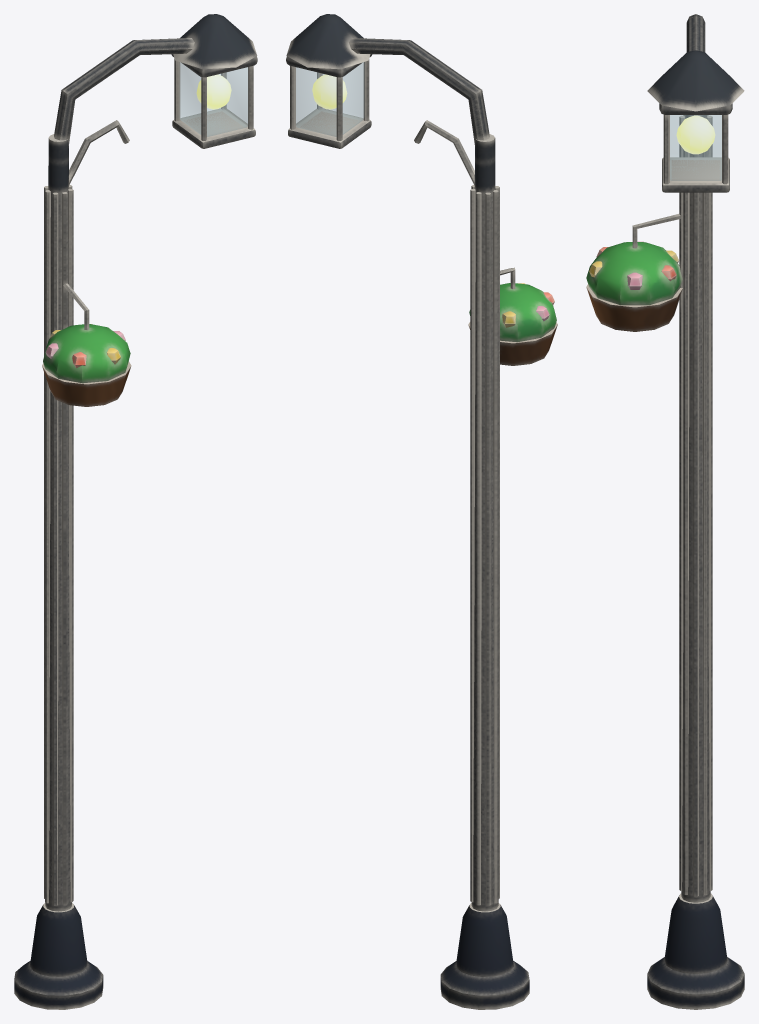
The model's file is street_lamp.glb.
3 renders of one model, left to right at view 1: azimuth 30°, elevation 25°; view 2: azimuth 150°, elevation 25°; view 3: azimuth 270°, elevation 25°, orthographic. The views are drawn at different scales.
Parts seen in each view (by area): view 1: SM_StreetLamp; view 2: SM_StreetLamp; view 3: SM_StreetLamp.
Boxes of the visible parts, left/top/right/bottom form: SM_StreetLamp: left=14, top=14, right=257, bottom=1009; SM_StreetLamp: left=286, top=14, right=557, bottom=1009; SM_StreetLamp: left=586, top=14, right=744, bottom=1009.
Size of what is drawn, in the model's own units: 1.2 by 4.62 by 0.65.
3 materials, 1 textured.
